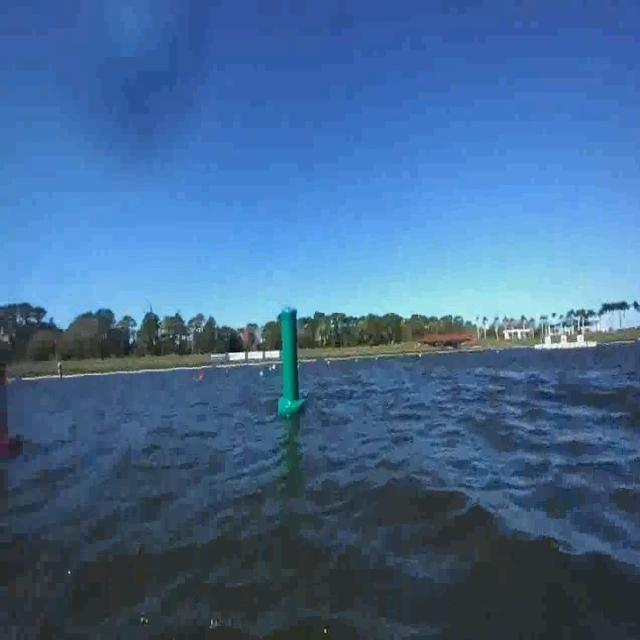green-column-buoy: (278, 305, 306, 415)
